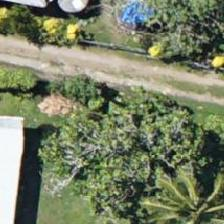coconut_tree: (143, 161, 223, 223)
